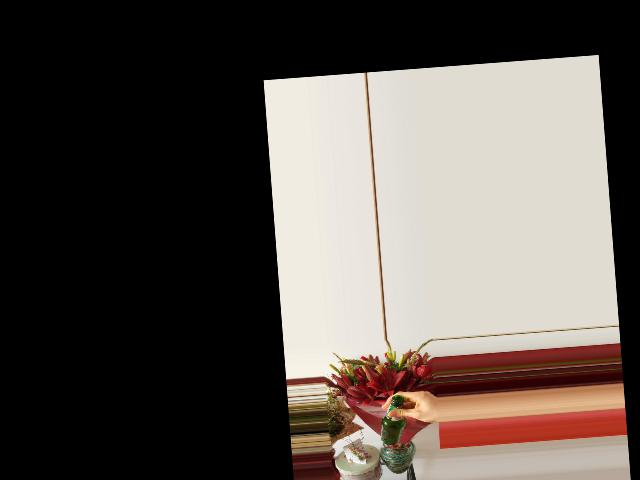beer: (378, 395, 408, 445)
